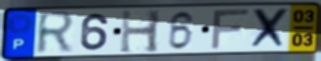6: (80, 12, 112, 52), (168, 10, 194, 51)
F: (209, 7, 253, 51)
H: (119, 8, 164, 55)
R: (35, 10, 78, 57)
X: (248, 6, 292, 50)
